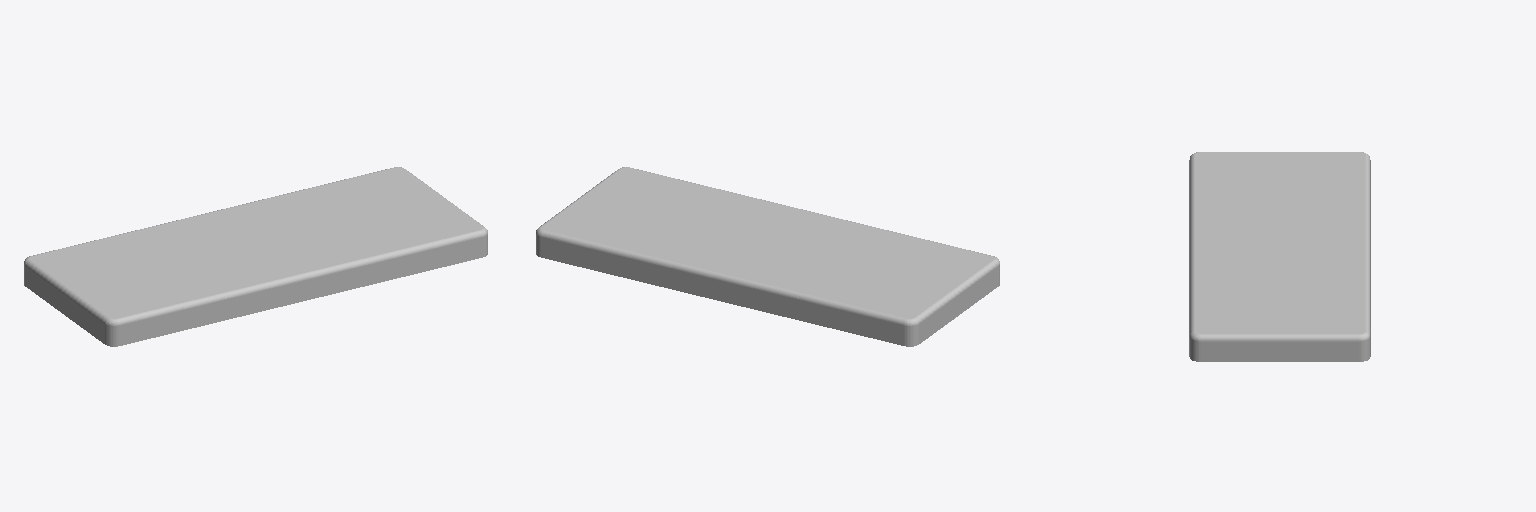
Rendered from original-42.obj.
The picture shows the model from 3 angles: view 1: azimuth 30°, elevation 25°; view 2: azimuth 150°, elevation 25°; view 3: azimuth 270°, elevation 25°; orthographic projection.
Visible parts, largest first — view 1: Component_4_1/Component_4/mesh9/mesh9-geometry#mesh9-geometry; view 2: Component_4_1/Component_4/mesh9/mesh9-geometry#mesh9-geometry; view 3: Component_4_1/Component_4/mesh9/mesh9-geometry#mesh9-geometry.
Boxes of the visible parts, x1,y1,x2,y2 form: Component_4_1/Component_4/mesh9/mesh9-geometry#mesh9-geometry: [24, 167, 487, 346]; Component_4_1/Component_4/mesh9/mesh9-geometry#mesh9-geometry: [536, 167, 999, 346]; Component_4_1/Component_4/mesh9/mesh9-geometry#mesh9-geometry: [1189, 152, 1370, 361].
Size of the model in its own units: 0.1544 by 0.0099 by 0.0633.